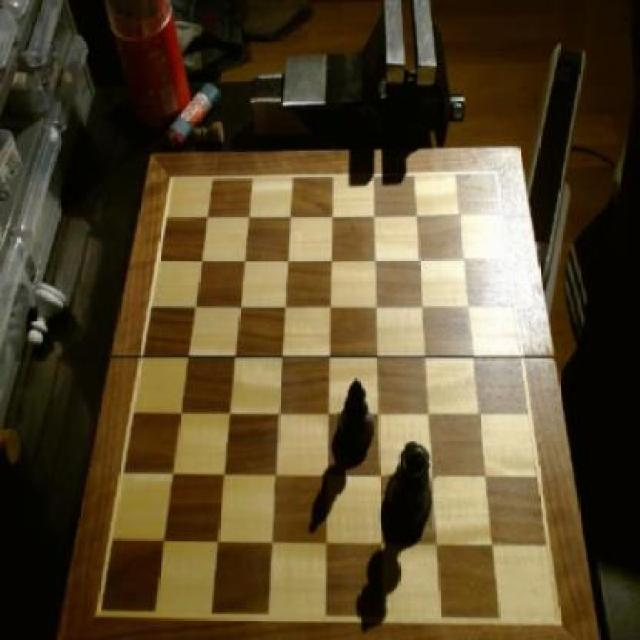bishop: (337, 378, 377, 454)
black-pawn: (385, 442, 436, 543)
